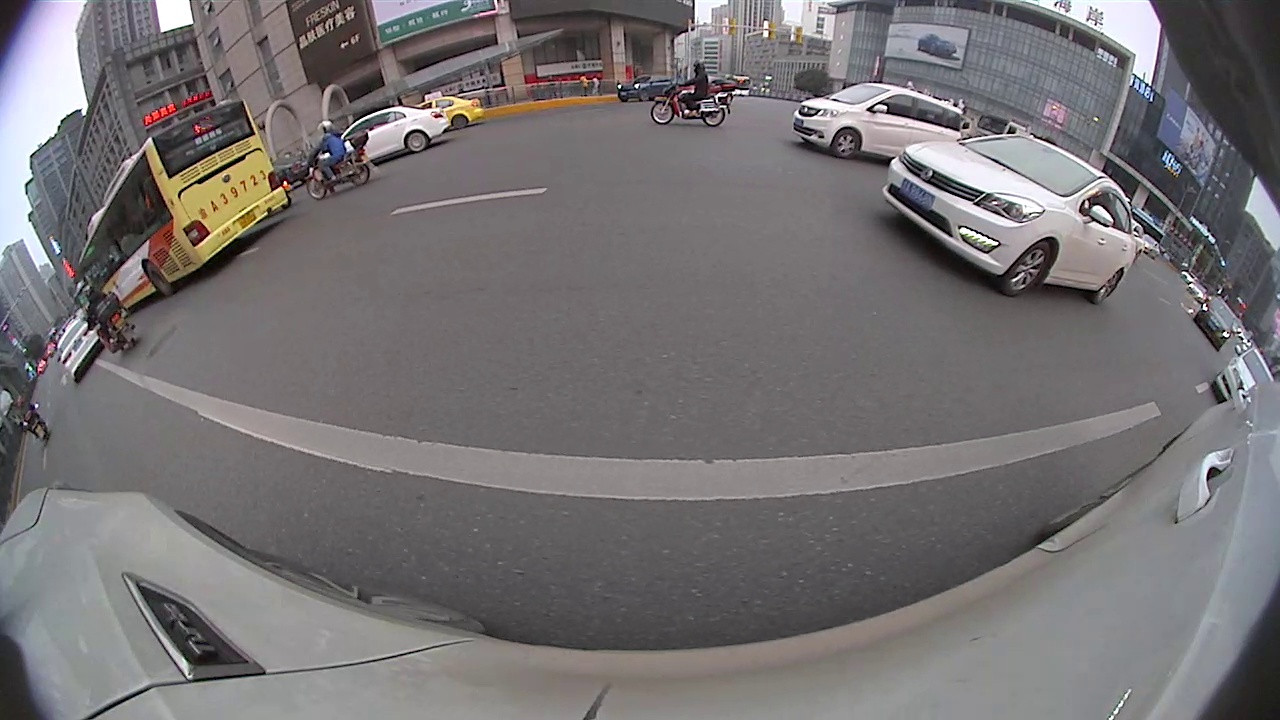bus: (74, 96, 292, 324)
car: (877, 134, 1137, 306), (788, 78, 970, 166), (337, 101, 448, 169), (1210, 350, 1279, 413), (410, 84, 486, 137), (52, 316, 106, 382), (1190, 289, 1243, 350)
front: (1002, 238, 1051, 297), (832, 128, 860, 161), (649, 99, 677, 127), (305, 176, 329, 202)
rear: (142, 260, 177, 301), (1089, 267, 1121, 307), (404, 129, 430, 156), (347, 163, 373, 188), (701, 107, 728, 129), (449, 113, 472, 132)
rider: (648, 58, 734, 133), (308, 123, 368, 204), (79, 280, 136, 359), (11, 389, 58, 450)
